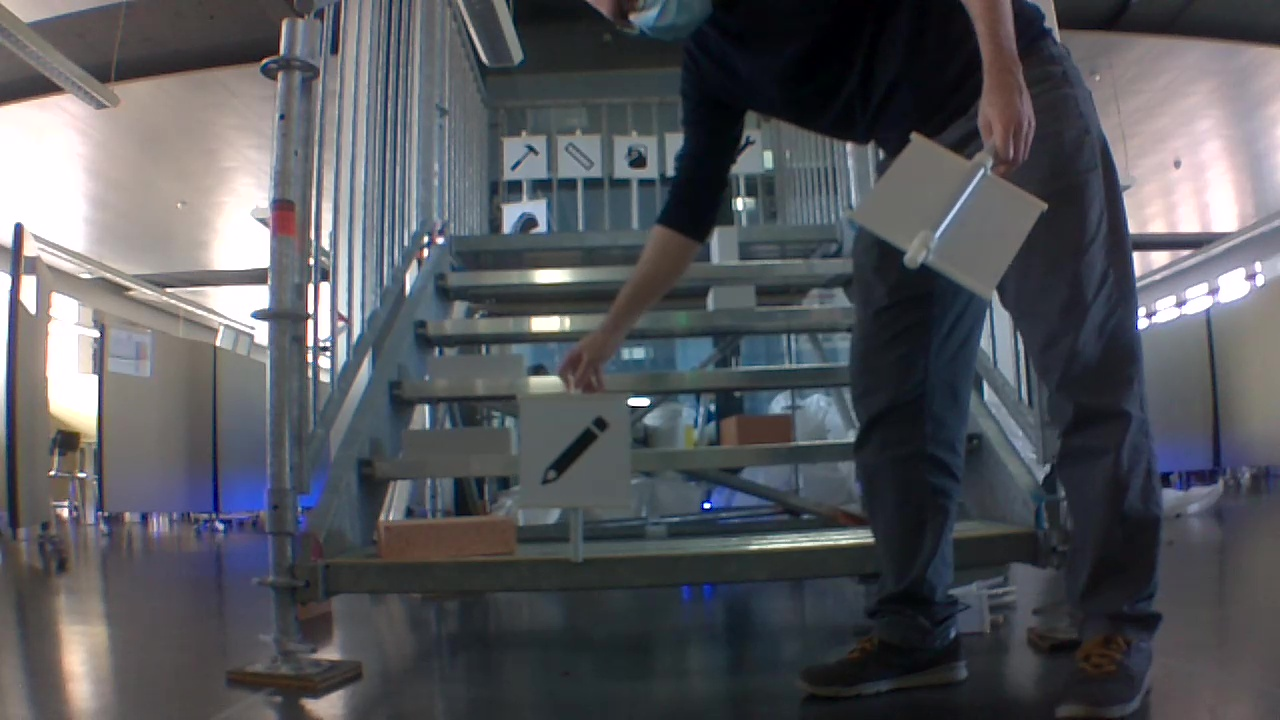brick: (371, 516, 522, 560), (401, 425, 519, 457), (427, 350, 524, 380), (717, 411, 796, 446), (705, 283, 756, 313), (711, 224, 738, 264)
bucket: (619, 140, 650, 174)
edge: (313, 540, 874, 601)
hammer: (507, 141, 540, 173)
pencil: (541, 411, 613, 488)
ruler: (565, 140, 598, 167)
taco: (510, 208, 537, 234)
